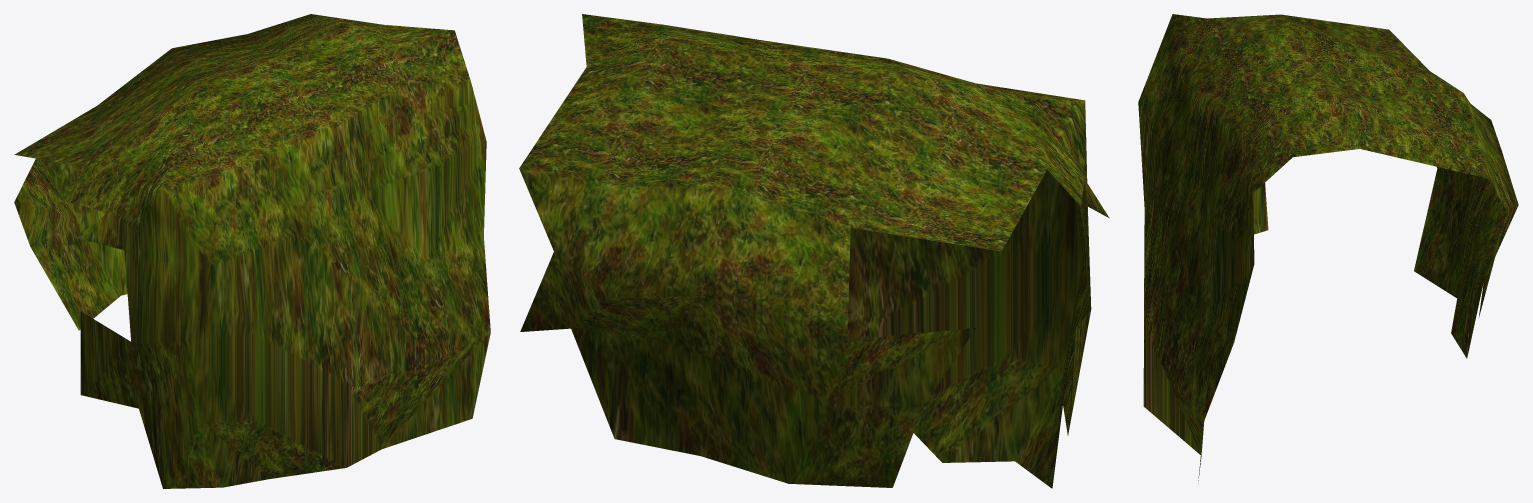
Rendered from TROLLHOLE02_BOX321.fbx.
3 views of the same model, side by side, from view 1: azimuth 30°, elevation 25°; view 2: azimuth 150°, elevation 25°; view 3: azimuth 270°, elevation 25° (orthographic). The views are drawn at different scales.
Visible parts, largest first — view 1: TROLLHOLE02_BOX321; view 2: TROLLHOLE02_BOX321; view 3: TROLLHOLE02_BOX321.
Part boxes in pixels (<box>): TROLLHOLE02_BOX321: <box>14,14,490,488</box>; TROLLHOLE02_BOX321: <box>519,14,1109,488</box>; TROLLHOLE02_BOX321: <box>1138,14,1518,483</box>.
Size of the model in its own units: 98571 by 83881 by 77567.
1 material, 1 textured.
